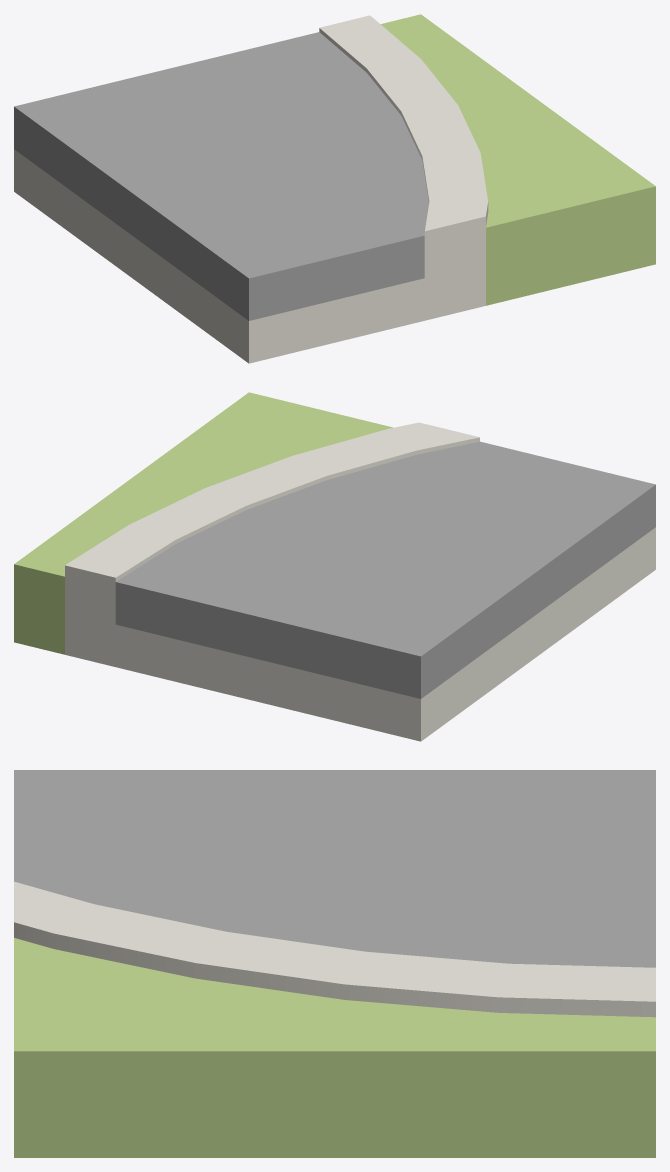
File: road-tile-057.glb
The picture shows the model from 3 angles, top to bottom: view 1: azimuth 30°, elevation 25°; view 2: azimuth 150°, elevation 25°; view 3: azimuth 270°, elevation 25°; orthographic projection. The views are drawn at different scales.
Parts seen in each view (by area): view 1: roadTile_057_Asphalt, roadTile_057_Stone, roadTile_057_Grass; view 2: roadTile_057_Asphalt, roadTile_057_Stone, roadTile_057_Grass; view 3: roadTile_057_Asphalt, roadTile_057_Grass, roadTile_057_Stone.
Part boxes in pixels (box(x1,y1,x2,y2)): roadTile_057_Asphalt: box(14, 32, 428, 320); roadTile_057_Stone: box(14, 15, 488, 363); roadTile_057_Grass: box(380, 14, 655, 305); roadTile_057_Asphalt: box(115, 441, 655, 698); roadTile_057_Stone: box(65, 422, 655, 741); roadTile_057_Grass: box(14, 392, 393, 654); roadTile_057_Asphalt: box(14, 770, 655, 967); roadTile_057_Grass: box(14, 938, 655, 1157); roadTile_057_Stone: box(14, 881, 655, 1017).
Size of the model in its own units: 3 by 0.63 by 3.
